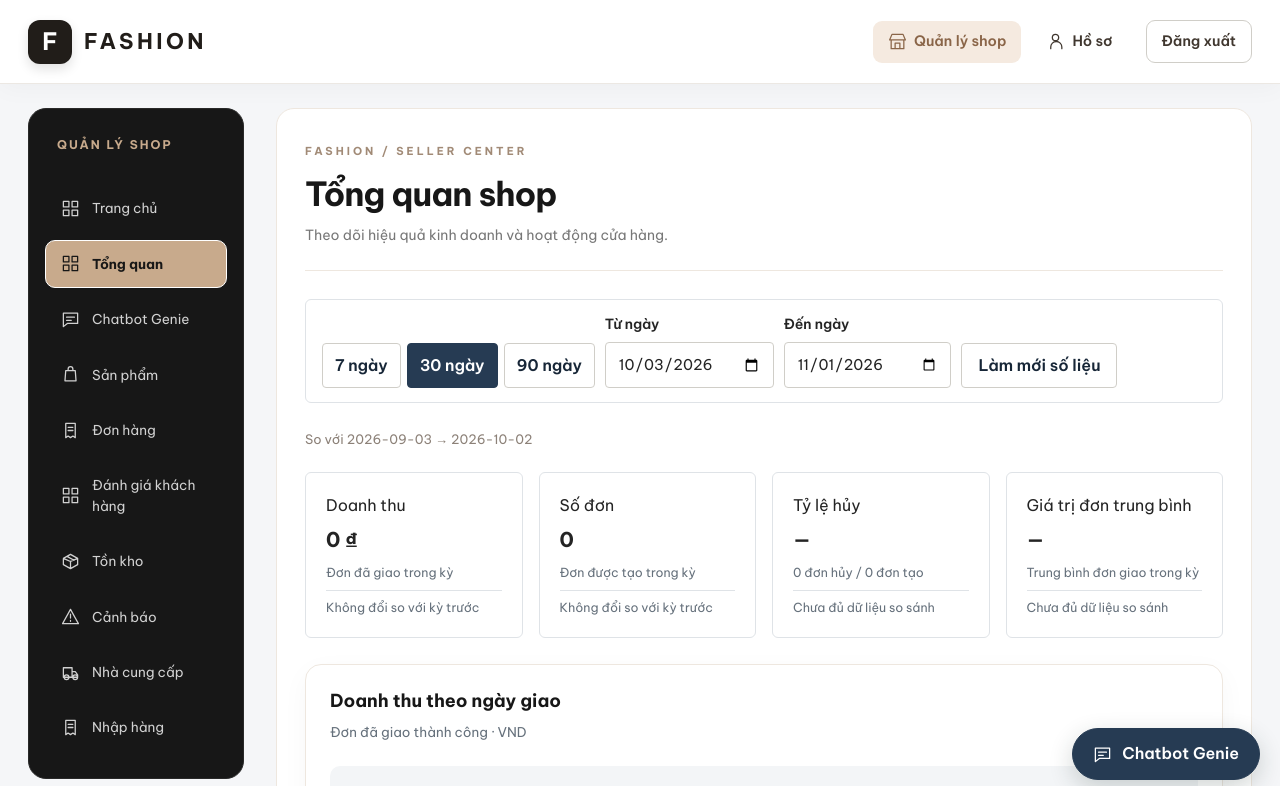
Test: xóa phiên và rời trang được bảo vệ khi đăng xuất
This screenshot has width=1280, height=786.
Click the button "Đăng xuất". click: [1199, 42]
box: [1146,20,1252,63]
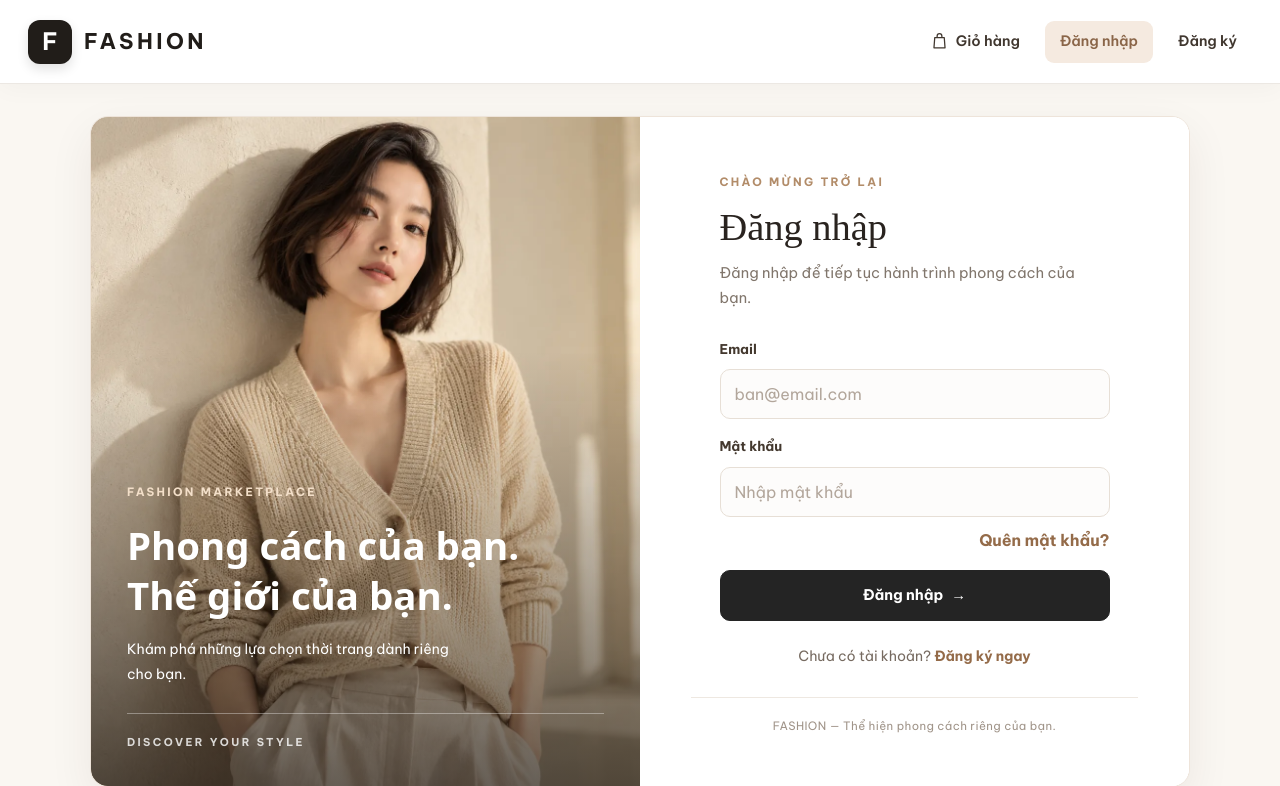
Result: the text "Đăng nhập" is shown at [1045,20,1153,62]
Result: the text "Tổng quan shop" is gone
